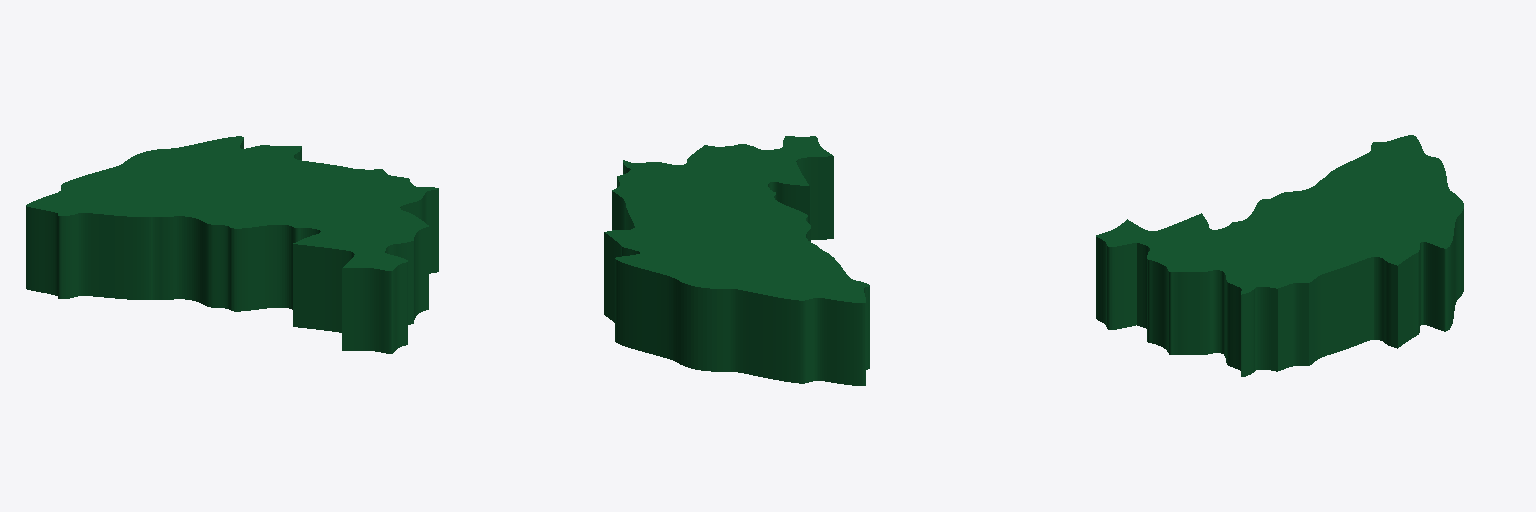
The model's file is Asia_10.obj.
The picture shows the model from 3 angles: view 1: azimuth 30°, elevation 25°; view 2: azimuth 150°, elevation 25°; view 3: azimuth 270°, elevation 25°; orthographic projection.
Visible parts, largest first — view 1: Asia_10_path4256; view 2: Asia_10_path4256; view 3: Asia_10_path4256.
Boxes of the visible parts, box(x1,y1,x2,y2) form: Asia_10_path4256: box(26, 136, 438, 353); Asia_10_path4256: box(604, 136, 869, 385); Asia_10_path4256: box(1096, 135, 1463, 376).
Size of the model in its own units: 0.4136 by 0.1 by 0.4021.